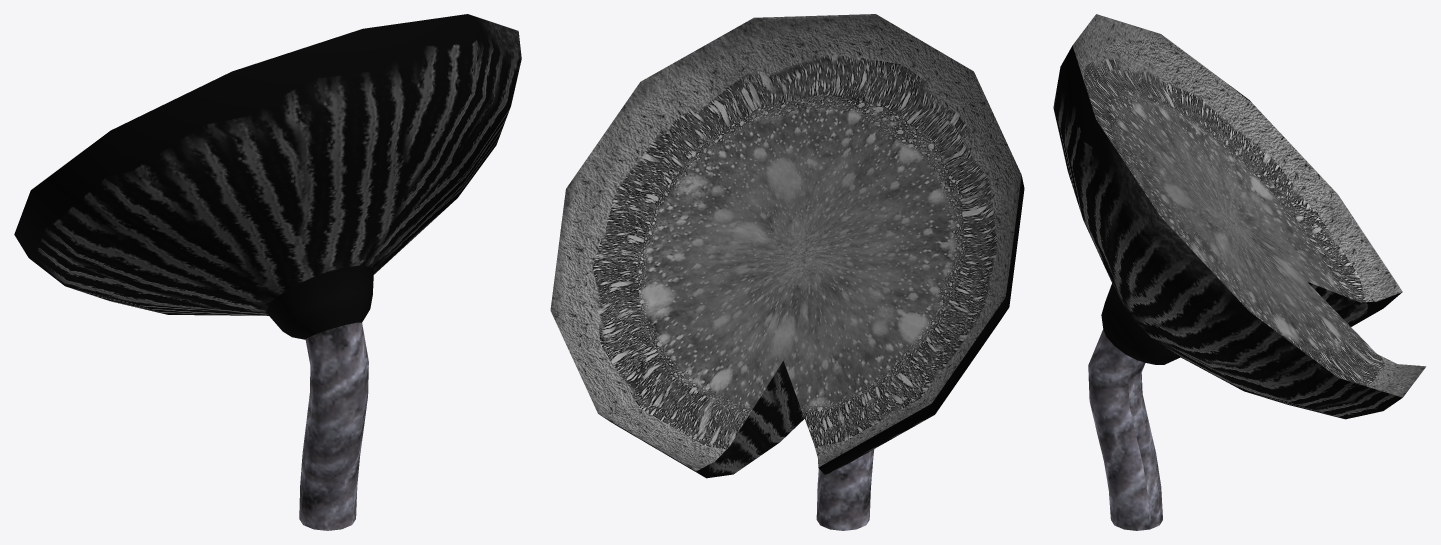
File: Mushroom5.fbx
3 renders of one model, left to right at view 1: azimuth 30°, elevation 25°; view 2: azimuth 150°, elevation 25°; view 3: azimuth 270°, elevation 25°, orthographic. The views are drawn at different scales.
Parts seen in each view (by area): view 1: Mushroom 5; view 2: Mushroom 5; view 3: Mushroom 5.
Part boxes in pixels (x1,y1,x2,y2): Mushroom 5: (14, 14, 521, 530); Mushroom 5: (550, 14, 1024, 530); Mushroom 5: (1053, 14, 1426, 530).
Bounding box in the file's own units: 189 × 197 × 141.
